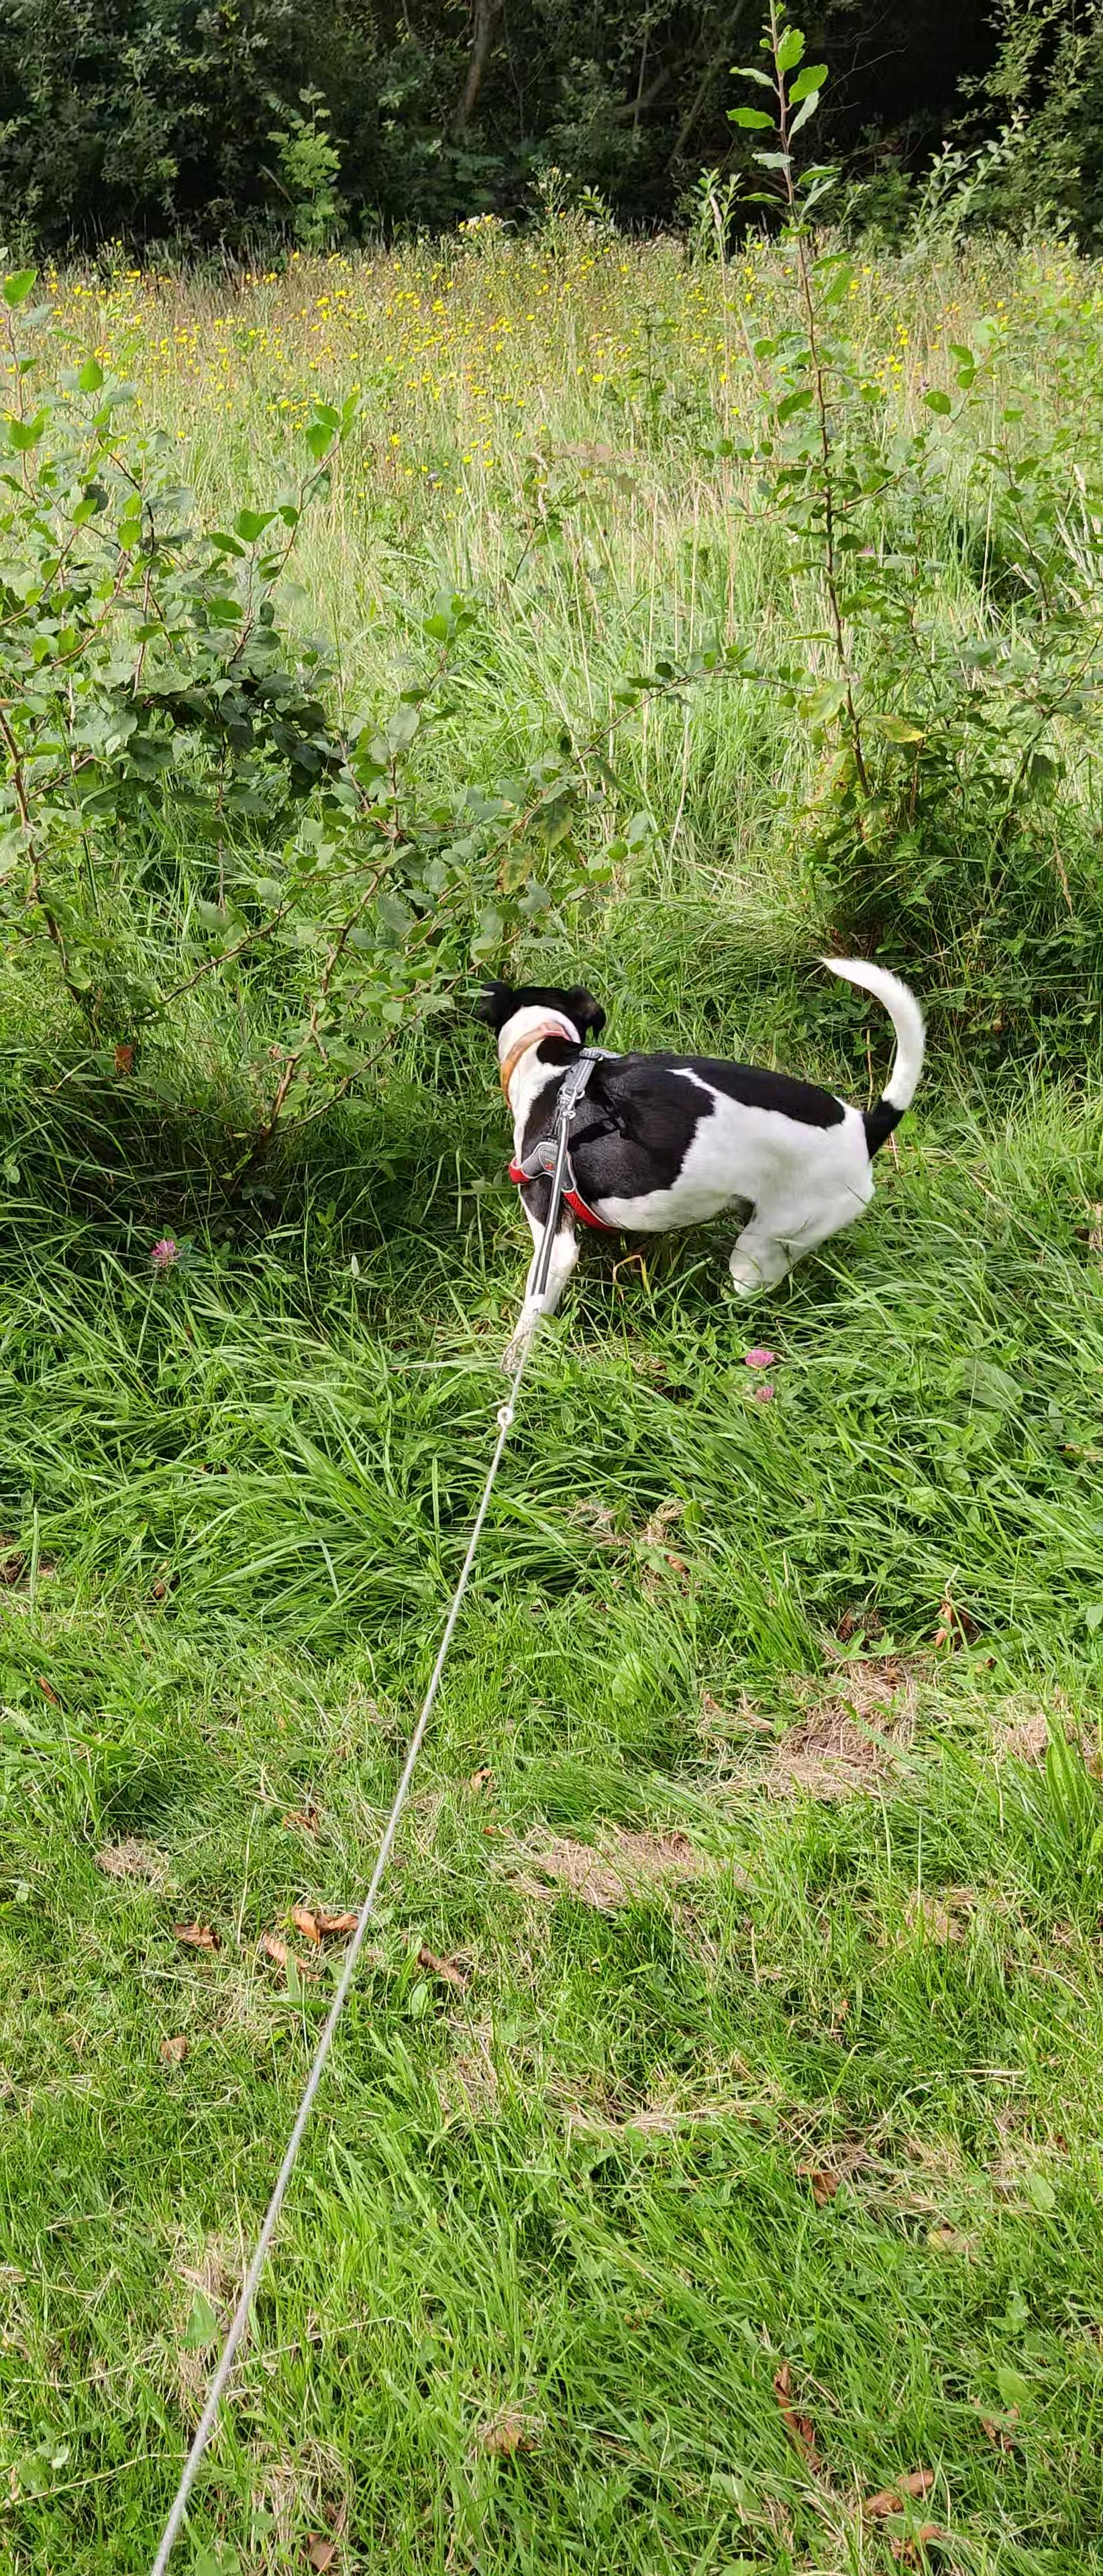Dog: (452, 928, 934, 1334)
